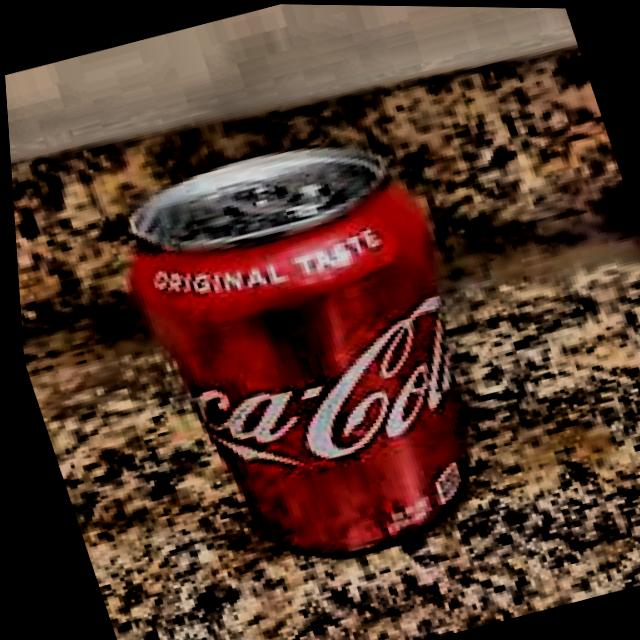Cans: (83, 104, 533, 618)
